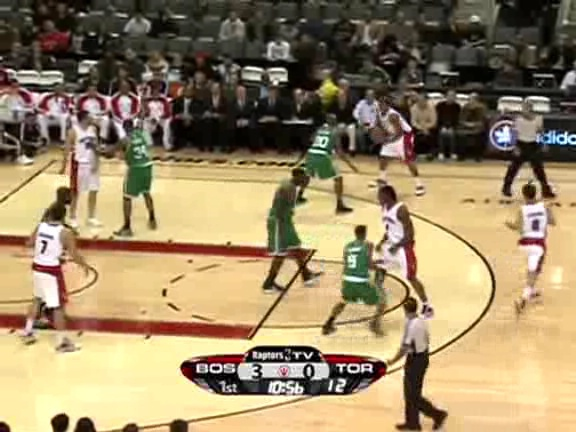person: (339, 234, 373, 315), (338, 234, 372, 315), (340, 234, 374, 315), (339, 233, 373, 314), (339, 235, 373, 316)
target_negative: (43, 97, 206, 284), (237, 82, 324, 259), (291, 131, 524, 149), (25, 209, 92, 253), (537, 291, 547, 420), (474, 311, 489, 394)
